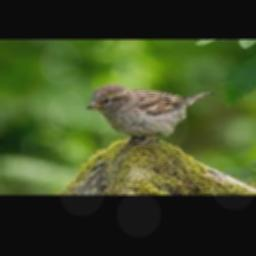Sparrow: (85, 82, 214, 145)
